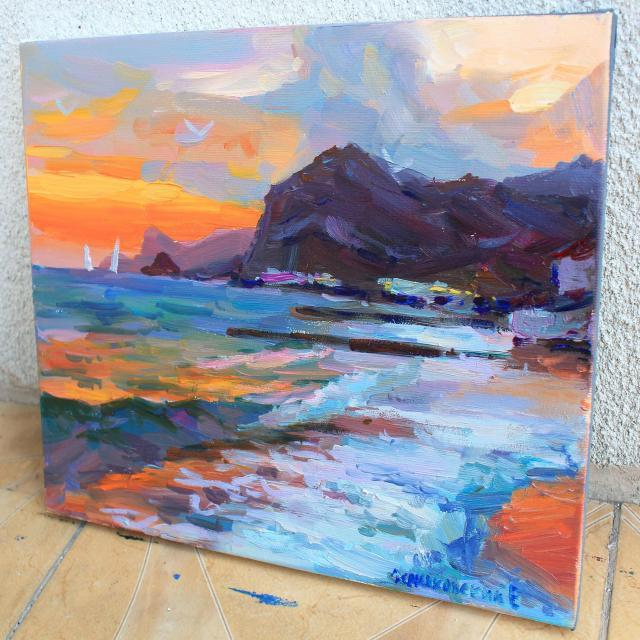painting: (21, 12, 613, 627)
